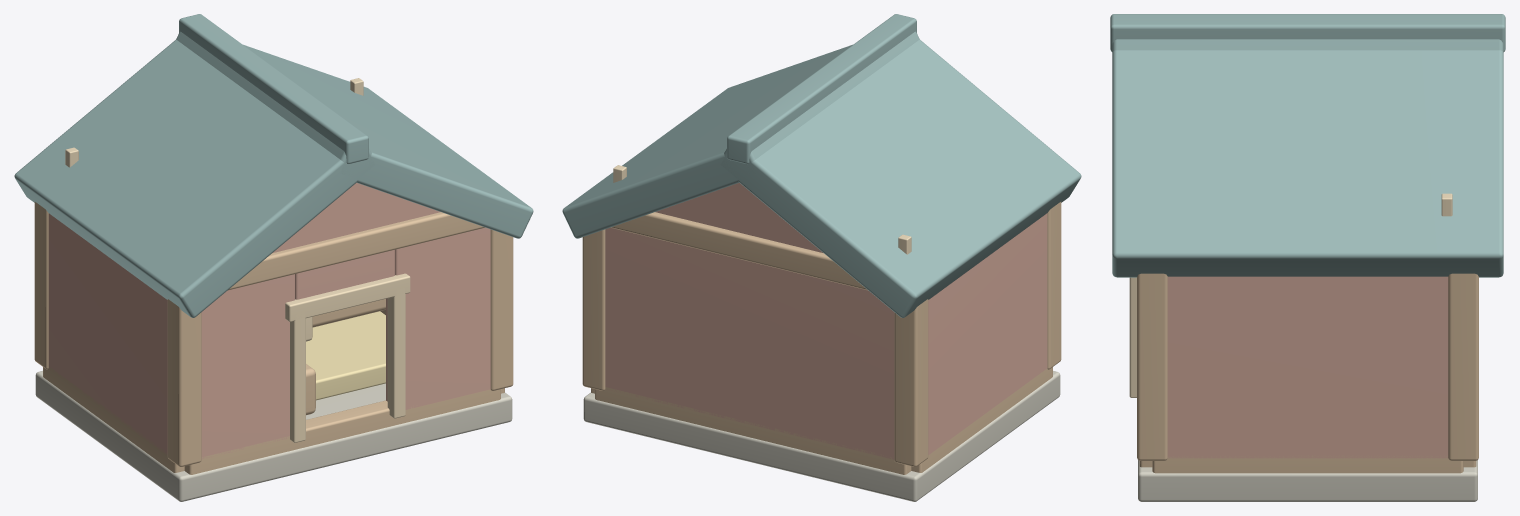
The model's file is goat-shelter-complete.glb.
3 views of the same model, side by side, from view 1: azimuth 30°, elevation 25°; view 2: azimuth 150°, elevation 25°; view 3: azimuth 270°, elevation 25° (orthographic). The views are drawn at different scales.
Visible parts, largest first — view 1: Padded roof plane.018, Side panel.018, Padded roof plane.019, Front cladding.015, Front cladding.014, Rounded stone footing.023, Ridge cap.009, Eave beam.028, Straw resting pad.002, Sill beam.092, Corner post.068, Gable cladding.018 (+8 smaller); view 2: Padded roof plane.018, Back panel.007, Side panel.018, Padded roof plane.019, Rounded stone footing.023, Ridge cap.009, Eave beam.029, Corner post.069, Sill beam.093, Gable cladding.019, Corner post.071, Corner post.068 (+1 smaller); view 3: Padded roof plane.019, Side panel.019, Ridge cap.009, Rounded stone footing.023, Corner post.070, Corner post.071, Sill beam.095, Padded roof plane.018, Front door jamb.015.
Part boxes in pixels (left/top/right/bottom): Padded roof plane.018: left=14, top=39, right=374, bottom=317; Side panel.018: left=48, top=213, right=167, bottom=454; Padded roof plane.019: left=176, top=31, right=533, bottom=238; Front cladding.015: left=386, top=227, right=490, bottom=409; Front cladding.014: left=201, top=274, right=294, bottom=459; Rounded stone footing.023: left=35, top=371, right=512, bottom=501; Ridge cap.009: left=179, top=14, right=368, bottom=163; Eave beam.028: left=228, top=212, right=484, bottom=290; Straw resting pad.002: left=306, top=311, right=385, bottom=400; Sill beam.092: left=184, top=389, right=500, bottom=474; Corner post.068: left=167, top=299, right=201, bottom=466; Gable cladding.018: left=273, top=183, right=440, bottom=252; Padded roof plane.018: left=720, top=39, right=1081, bottom=317; Back panel.007: left=605, top=227, right=894, bottom=459; Side panel.018: left=928, top=213, right=1047, bottom=454; Padded roof plane.019: left=562, top=31, right=919, bottom=238; Rounded stone footing.023: left=583, top=371, right=1060, bottom=501; Ridge cap.009: left=727, top=14, right=916, bottom=163; Eave beam.029: left=611, top=212, right=867, bottom=290; Corner post.069: left=894, top=299, right=928, bottom=466; Sill beam.093: left=595, top=387, right=911, bottom=474; Gable cladding.019: left=655, top=183, right=822, bottom=252; Corner post.071: left=582, top=229, right=605, bottom=390; Corner post.068: left=1047, top=202, right=1061, bottom=369; Padded roof plane.019: left=1112, top=50, right=1503, bottom=277; Side panel.019: left=1167, top=276, right=1448, bottom=458; Ridge cap.009: left=1110, top=14, right=1505, bottom=51; Rounded stone footing.023: left=1138, top=460, right=1477, bottom=501; Corner post.070: left=1137, top=273, right=1167, bottom=460; Corner post.071: left=1448, top=273, right=1478, bottom=460; Sill beam.095: left=1152, top=455, right=1463, bottom=473; Padded roof plane.018: left=1112, top=39, right=1503, bottom=51; Front door jamb.015: left=1129, top=277, right=1136, bottom=397.
Size of the model in its own units: 2.62 by 2.34 by 2.16.
